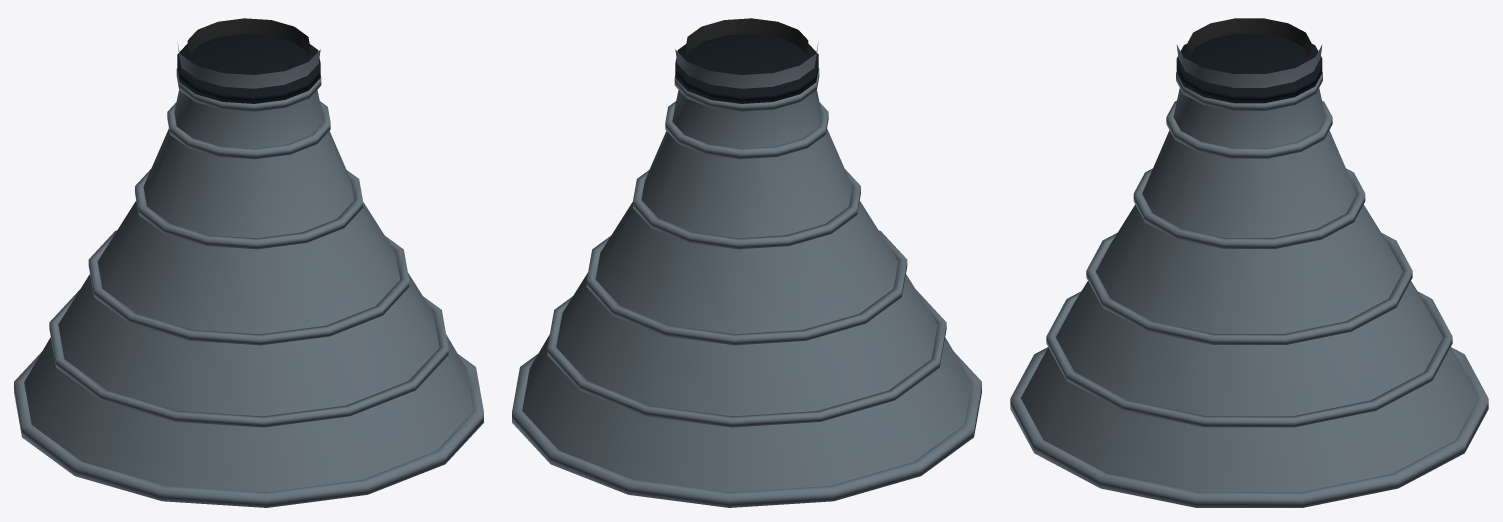
The model's file is apollo_sm.rcs_02.nozzle_02.glb.
The picture shows the model from 3 angles, left to right: view 1: azimuth 30°, elevation 25°; view 2: azimuth 150°, elevation 25°; view 3: azimuth 270°, elevation 25°; orthographic projection.
Visible parts, largest first — view 1: apollo_sm.rcs_02.nozzle_02.mesh; view 2: apollo_sm.rcs_02.nozzle_02.mesh; view 3: apollo_sm.rcs_02.nozzle_02.mesh.
Boxes of the visible parts, left/top/right/bottom form: apollo_sm.rcs_02.nozzle_02.mesh: left=14, top=18, right=483, bottom=507; apollo_sm.rcs_02.nozzle_02.mesh: left=512, top=18, right=981, bottom=507; apollo_sm.rcs_02.nozzle_02.mesh: left=1010, top=18, right=1488, bottom=507.
Size of the model in its own units: 0.208 by 0.18 by 0.2134.
